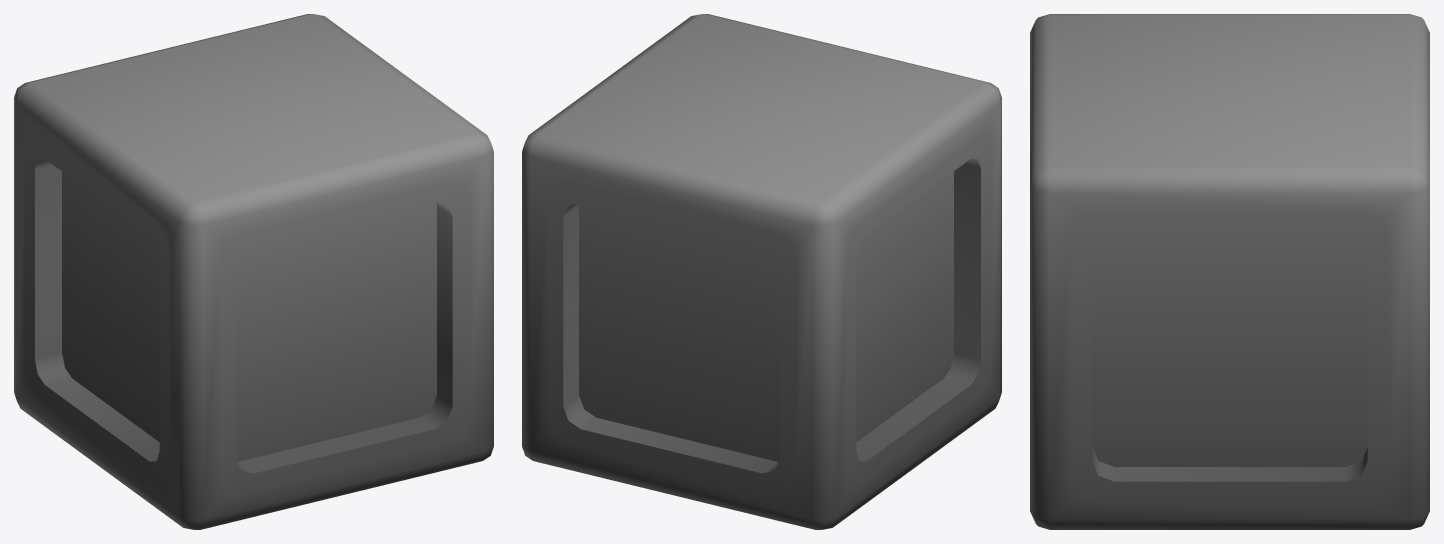
The model's file is 3D_Tile_Dungeon_04.fbx.
3 views of the same model, side by side, from view 1: azimuth 30°, elevation 25°; view 2: azimuth 150°, elevation 25°; view 3: azimuth 270°, elevation 25° (orthographic). The views are drawn at different scales.
Visible parts, largest first — view 1: 3D_Tile_Dungeon_04; view 2: 3D_Tile_Dungeon_04; view 3: 3D_Tile_Dungeon_04.
Boxes of the visible parts, x1,y1,x2,y2 form: 3D_Tile_Dungeon_04: (14, 14, 493, 529); 3D_Tile_Dungeon_04: (522, 14, 1001, 529); 3D_Tile_Dungeon_04: (1030, 14, 1429, 529).
Bounding box in the file's own units: 200 × 200 × 200.
